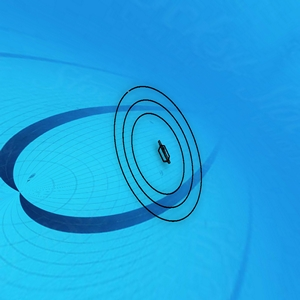circle: (109, 81, 208, 224)
submarine: (157, 142, 172, 166)
